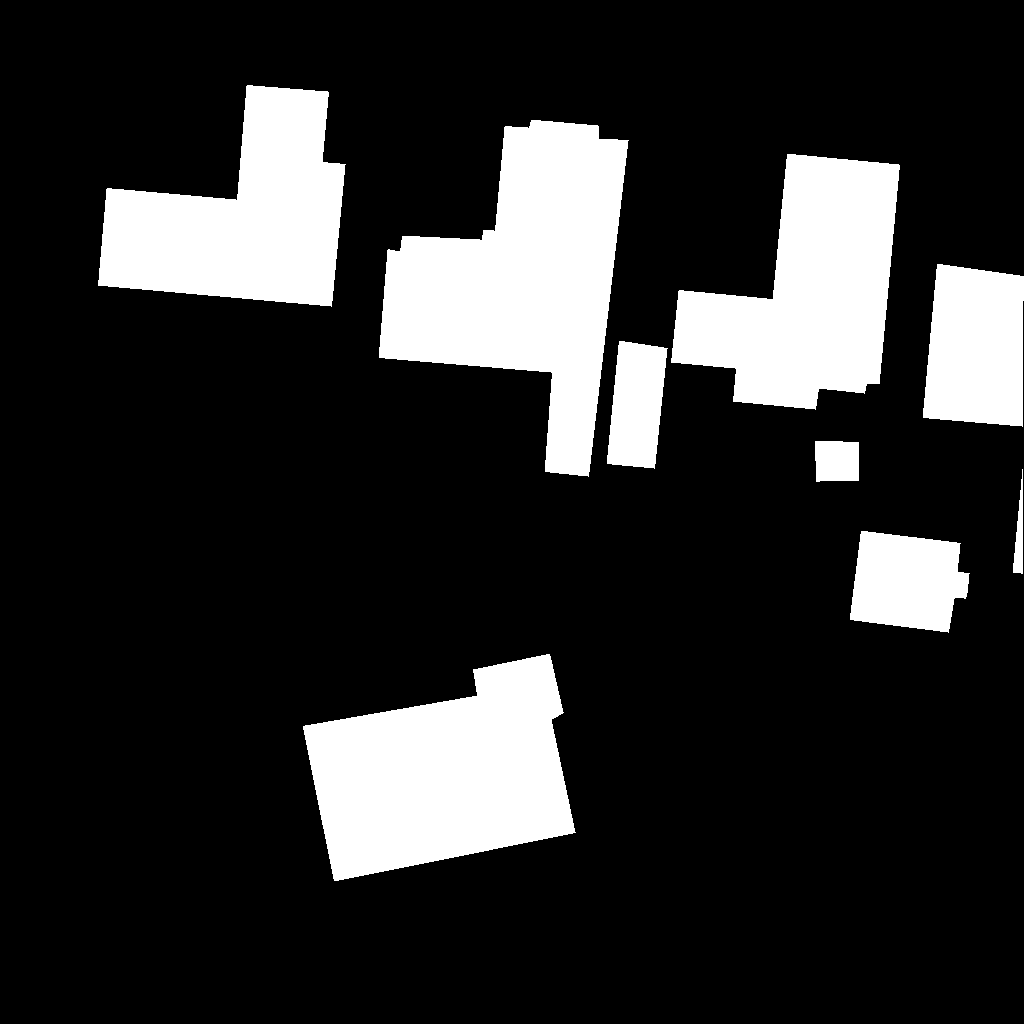building: (379, 120, 629, 477), (303, 654, 576, 882), (671, 154, 901, 410), (98, 85, 346, 307), (923, 264, 1024, 574), (850, 531, 970, 633), (607, 341, 668, 469), (815, 441, 860, 482)
